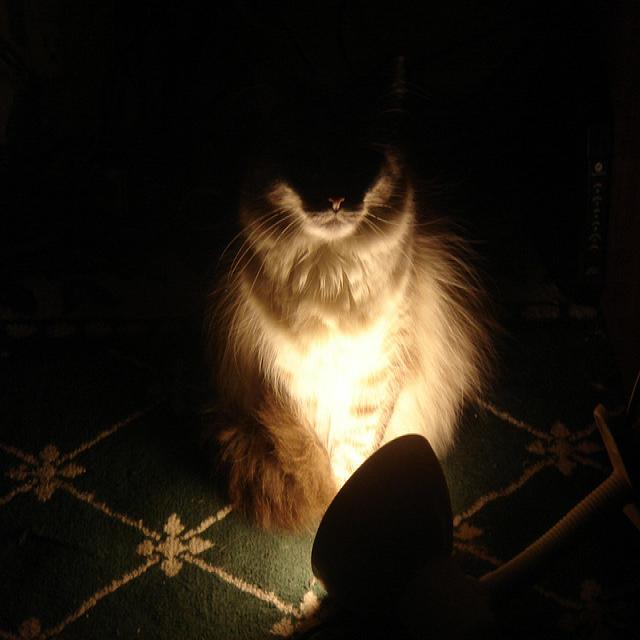Cat: (191, 99, 484, 541)
